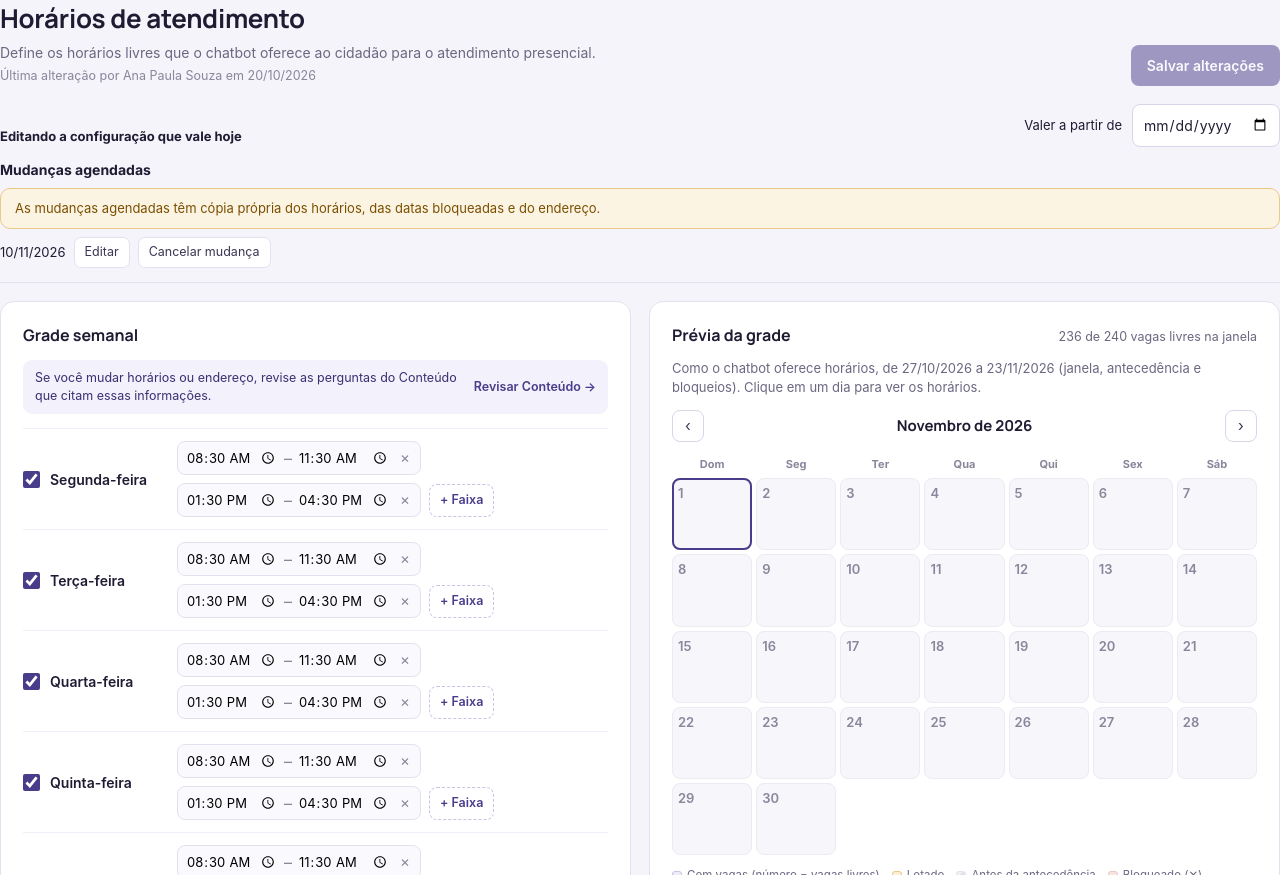
SchedulePage › cancela uma mudança futura depois de confirmar
Expected: the checkbox labelled "Segunda-feira" is shown, top-left (23, 471), bottom-right (40, 488)
Expected: the text "10/11/2026" is shown, top-left (0, 243), bottom-right (66, 262)
Click the button with aria-label "Cancelar a mudança de 10/11/2026".
click(204, 253)  # box top-left (138, 237), bottom-right (270, 268)
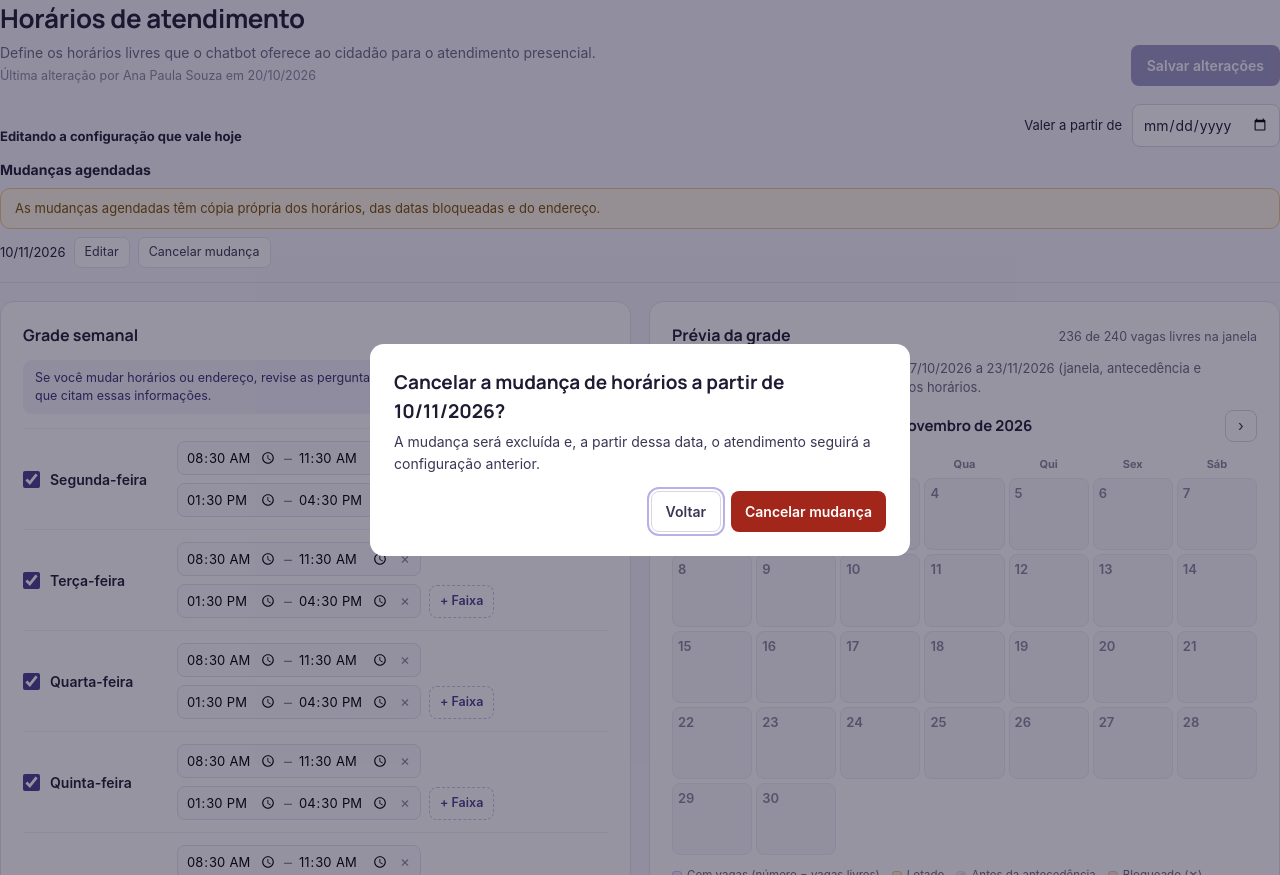
Click the button "Cancelar mudança".
click(808, 511)  # box top-left (731, 491), bottom-right (886, 532)
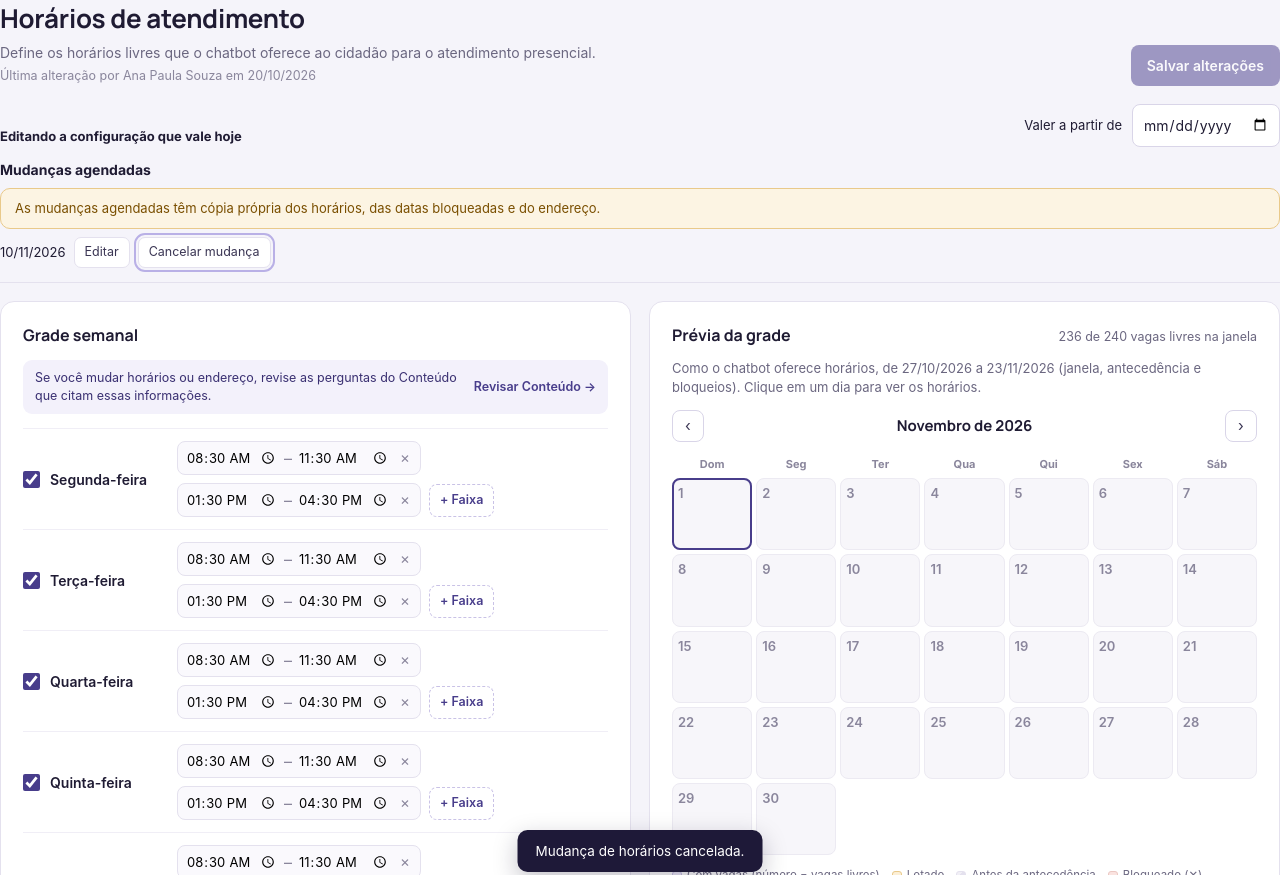
Expected: the text "Mudança de horários cancelada." is shown, top-left (518, 830), bottom-right (762, 872)
